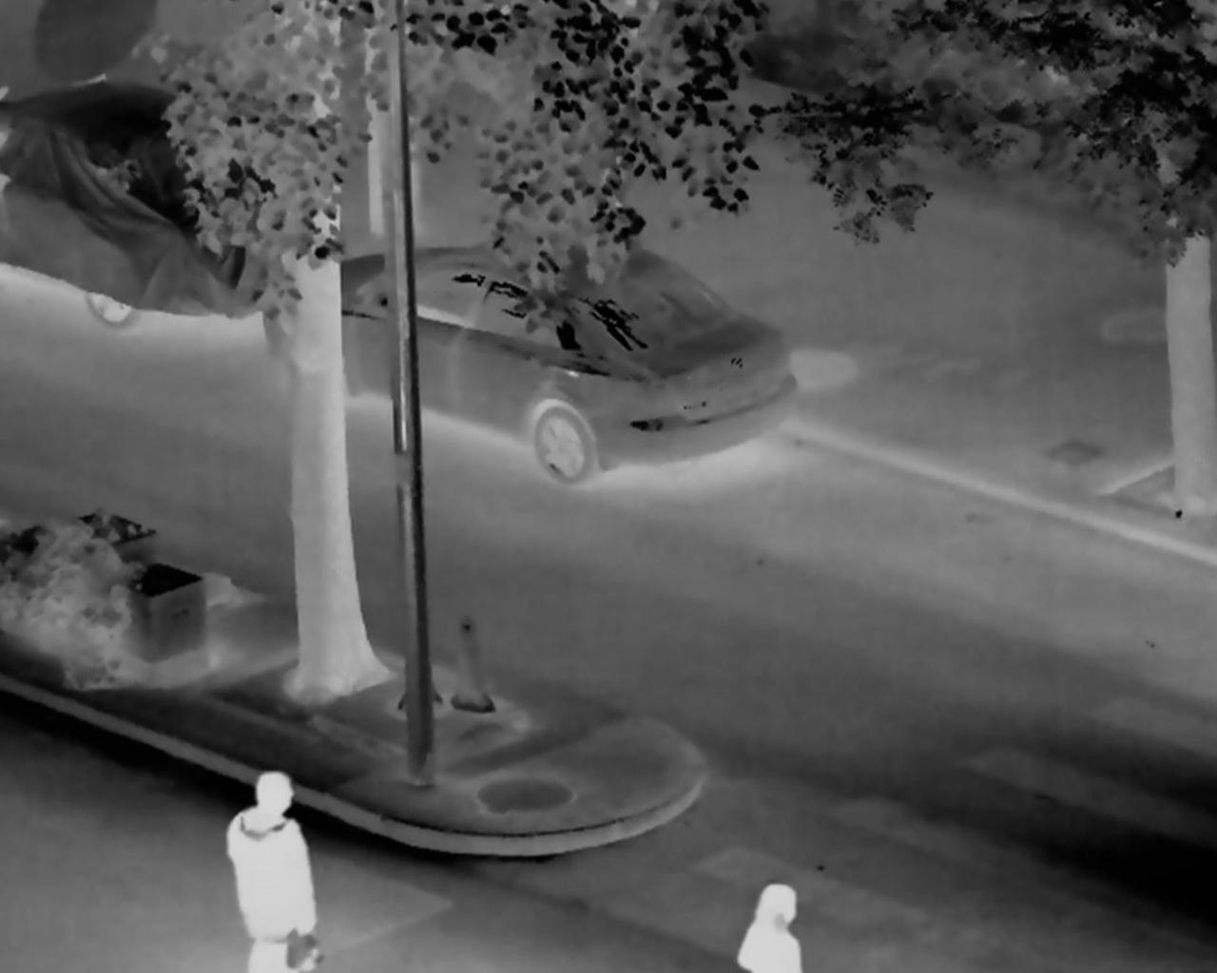person: (225, 770, 319, 973), (733, 887, 813, 973)
